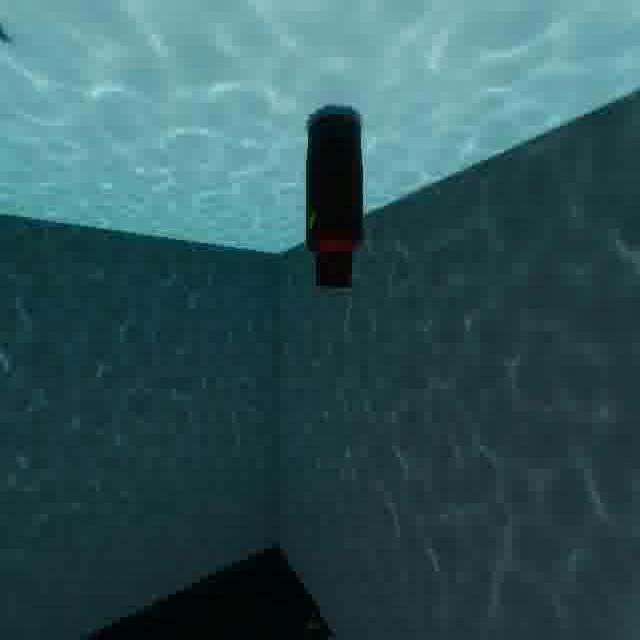Cylinder: (293, 98, 372, 301)
